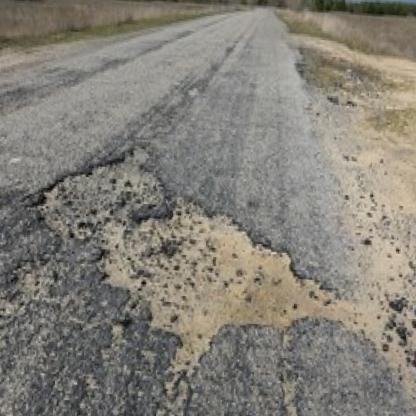pothole: (28, 137, 348, 382)
